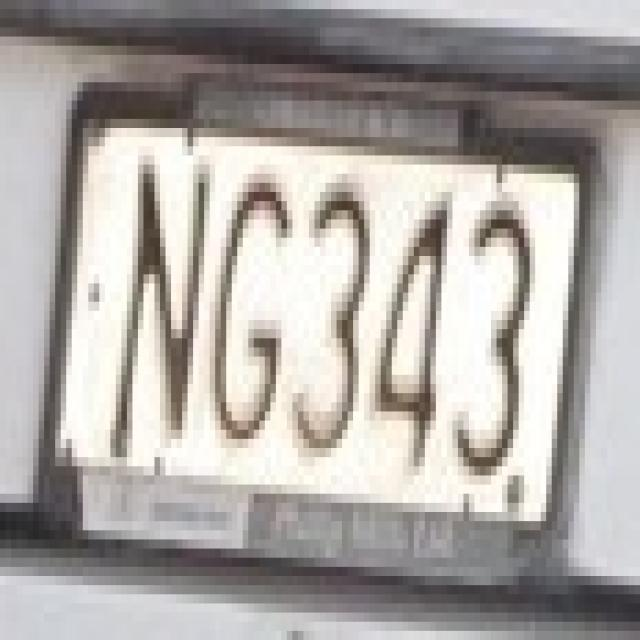LicensePlate: (54, 79, 584, 567)
